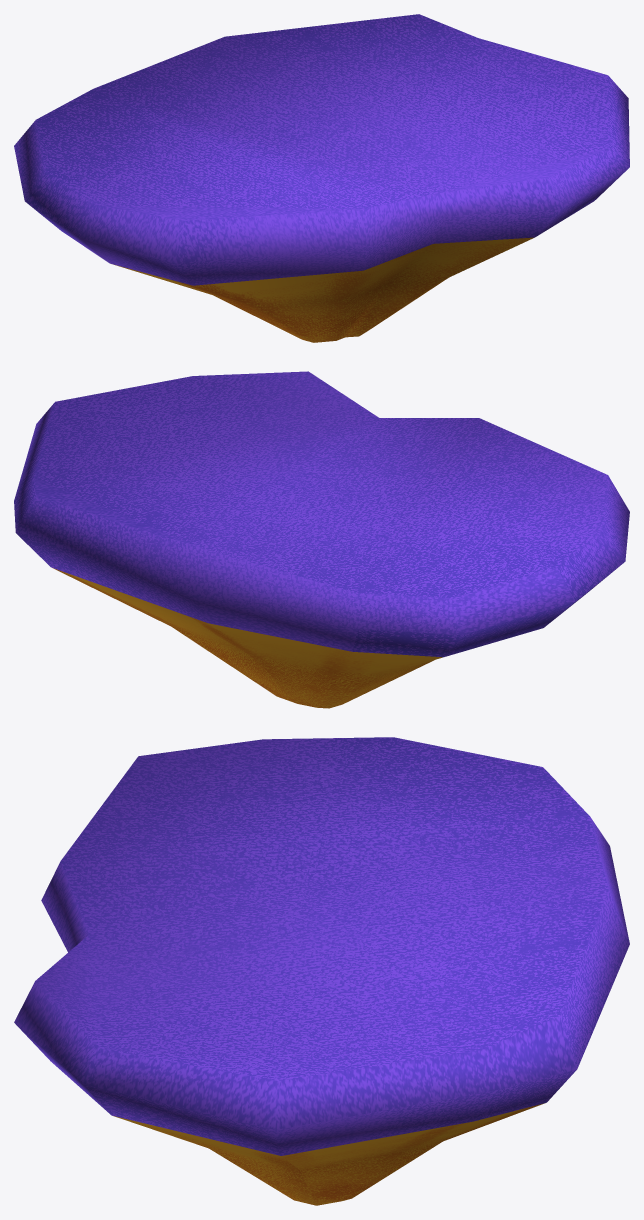
The model's file is subIsland1.gltf.
3 renders of one model, top to bottom at view 1: azimuth 30°, elevation 25°; view 2: azimuth 150°, elevation 25°; view 3: azimuth 270°, elevation 25°, orthographic. The views are drawn at different scales.
Visible parts, largest first — view 1: Vert.006, Vert.004; view 2: Vert.006, Vert.004; view 3: Vert.006, Vert.004.
Part boxes in pixels (x1=…): Vert.006: x1=14, y1=14, x2=629, y2=285; Vert.004: x1=114, y1=237, x2=533, y2=342; Vert.006: x1=14, y1=371, x2=629, y2=657; Vert.004: x1=53, y1=568, x2=442, y2=708; Vert.006: x1=14, y1=737, x2=629, y2=1155; Vert.004: x1=113, y1=1103, x2=545, y2=1205.
Bounding box in the file's own units: 6.08 × 2.25 × 4.28.
Materials: 2 (2 with a texture image).
